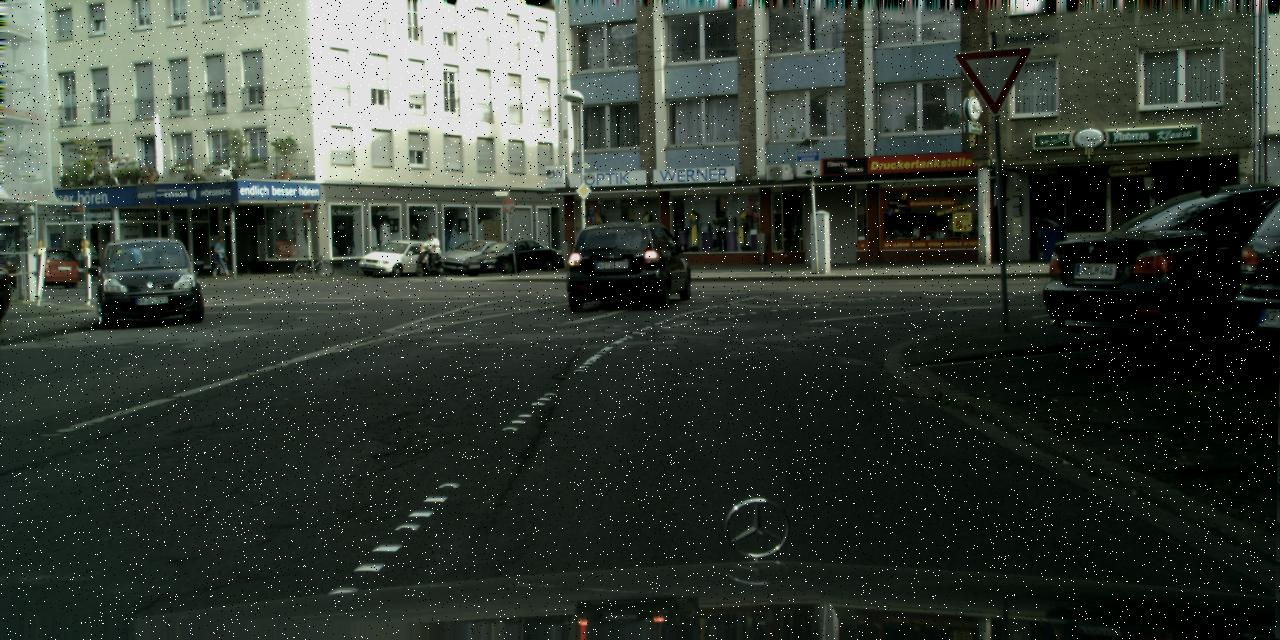ped: (213, 236, 229, 275), (424, 232, 439, 270)
